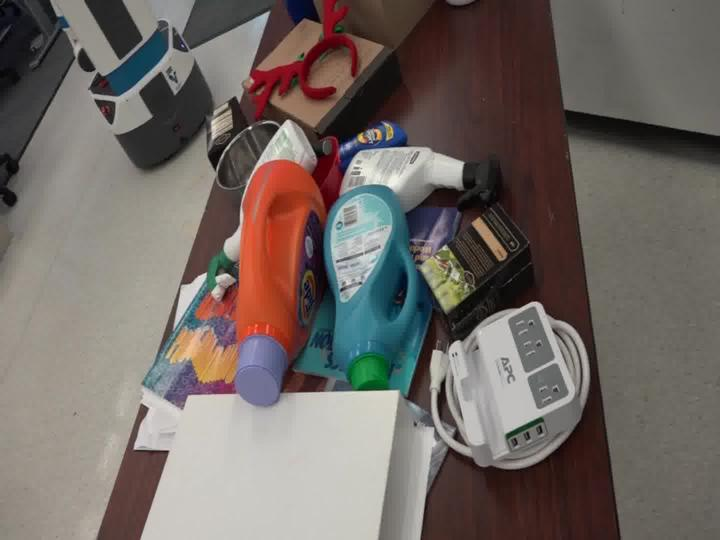tide: (232, 135, 329, 403)
